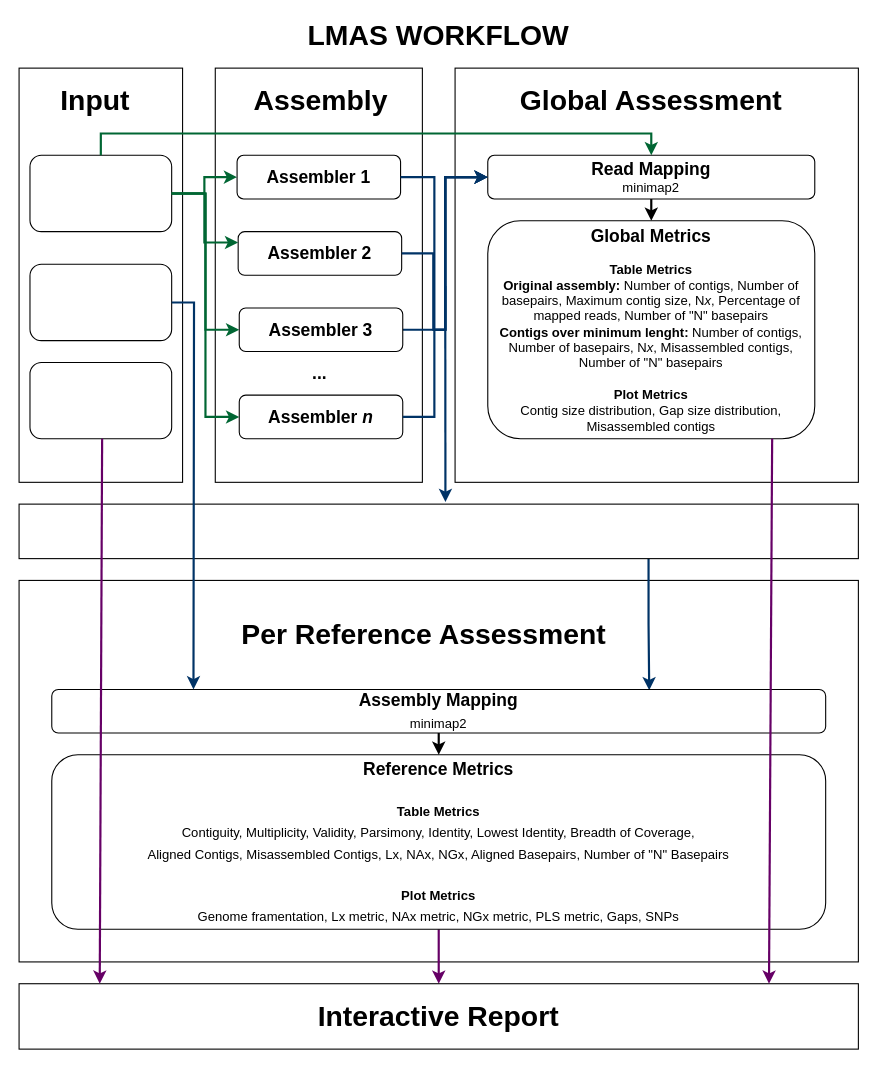
This 877x1068 diagram has some shape labels left out. Each missing label, with the centre of its shape:
--fastq: (x=100, y=193)
--md Optional: (x=100, y=400)
--reference: (x=100, y=302)
Filter Assembly bbTools: (x=438, y=531)
